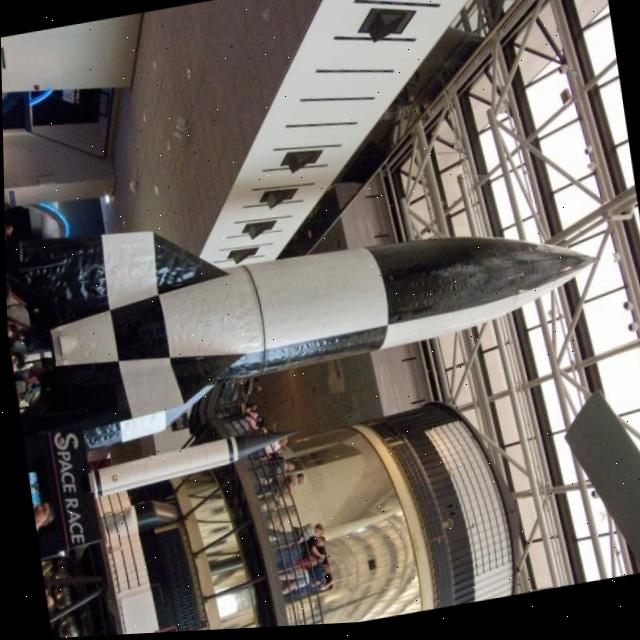missile: (46, 208, 602, 398)
